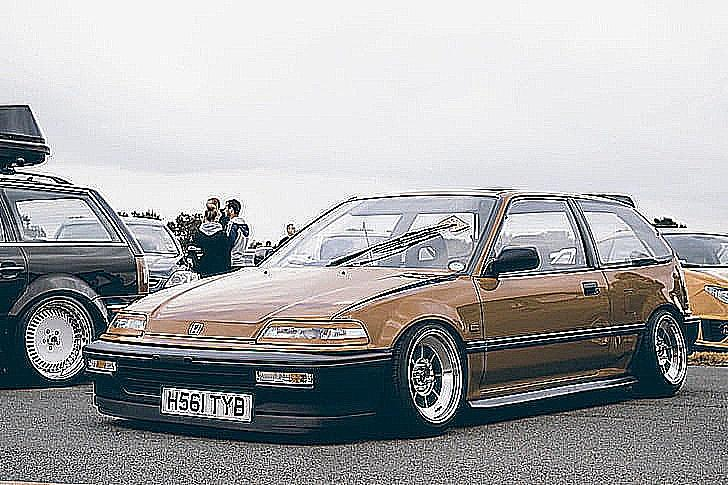Car hood: (119, 260, 458, 343)
Fender - -F-L-: (330, 271, 486, 403)
Fender - -R-L-: (610, 263, 673, 371)
Front bumper: (79, 342, 407, 444)
Headlight - -L-: (252, 314, 373, 350)
Headlight - -R-: (102, 308, 151, 341)
Passenger-s door - -F-L-: (482, 191, 614, 403)
Rear bumper: (676, 299, 713, 362)
Side bumper - -L-: (461, 367, 644, 413)
Side mirror - -L-: (478, 240, 547, 284)
Side mirror - -R-: (245, 240, 279, 270)
